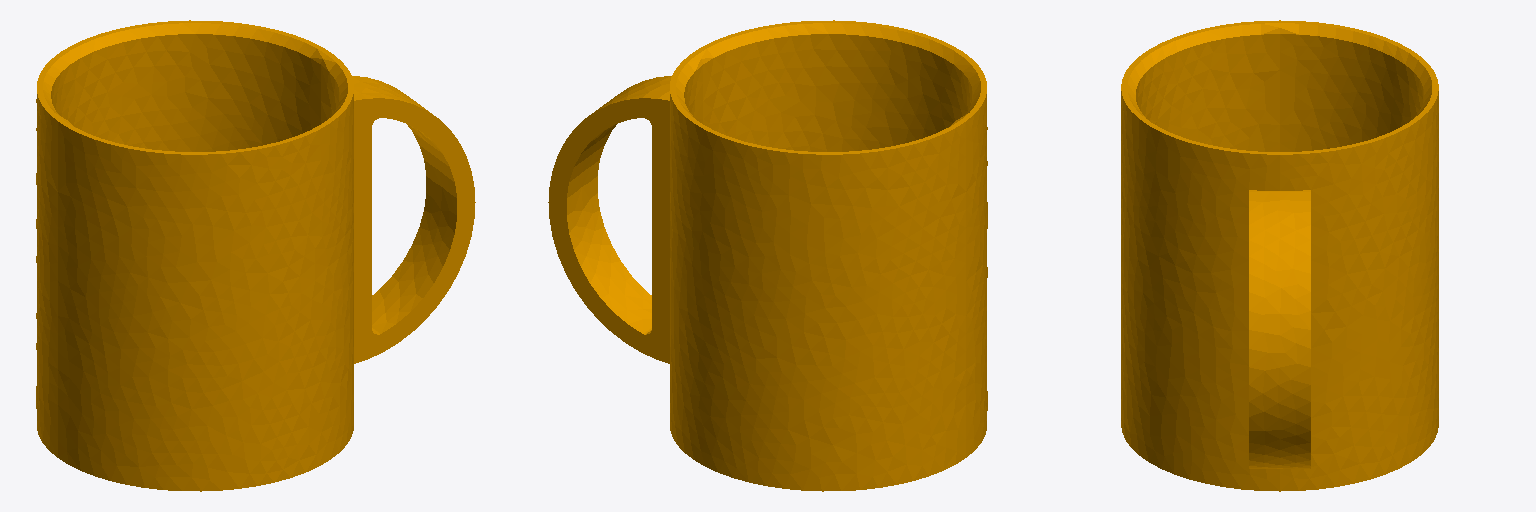
URDF robot description (cup_model):
<robot name="cup_model">
  <!-- 
  <link name="world"/>
  <joint name="cup_joint" type="floating" >
    <axis xyz="0 0 1" />
    <parent link="world" />
    <child link="cup" />
    <origin xyz="0 0 0" rpy="0 0 0" />
  </joint>
  -->
  <link name="cup">
    <inertial>
      <mass value="1" />
      <!-- center of mass (com) is defined w.r.t. link local coordinate system -->
      <origin xyz="0 0 0" /> 
      <inertia  ixx="1" ixy="0.0"  ixz="0.0"  iyy="1"  iyz="0.0"  izz="1" />
    </inertial>
    <visual>
      <!-- visual origin is defined w.r.t. link local coordinate system -->
      <origin xyz="0 0 0" rpy="0 0 0" />
      <geometry>
        <mesh filename="package://icr/models/dae/cup.dae" scale="1 1 1" />
      </geometry>
    </visual>
    <collision>
      <!-- collision origin is defined w.r.t. link local coordinate system -->
      <origin xyz="0 0 0" rpy="0 0 0" />
      <geometry>
        <mesh filename="package://icr/models/dae/cup.dae" scale="1 1 1" />
      </geometry>
    </collision>
  </link>
  <gazebo>
    <static>true</static>
  </gazebo>
</robot>

--- Facts derived from the render (not from the file) ---
The picture shows the robot from 3 angles, left to right: view 1: azimuth 30°, elevation 25°; view 2: azimuth 150°, elevation 25°; view 3: azimuth 270°, elevation 25°; orthographic projection.
Robot: cup_model — 1 links, 0 joints (none); root link cup; default pose: every joint at zero.
Visible links, largest first — view 1: cup; view 2: cup; view 3: cup.
Boxes of the visible links, box(x1,y1,x2,y2) form: cup: box(36, 20, 475, 491); cup: box(548, 20, 987, 491); cup: box(1121, 20, 1438, 491).
Bounding box of the posed robot: 0.1125 × 0.077 × 0.09 m (x, y, z).
1 mesh visuals loaded from 1 distinct referenced files (1 Collada DAE).